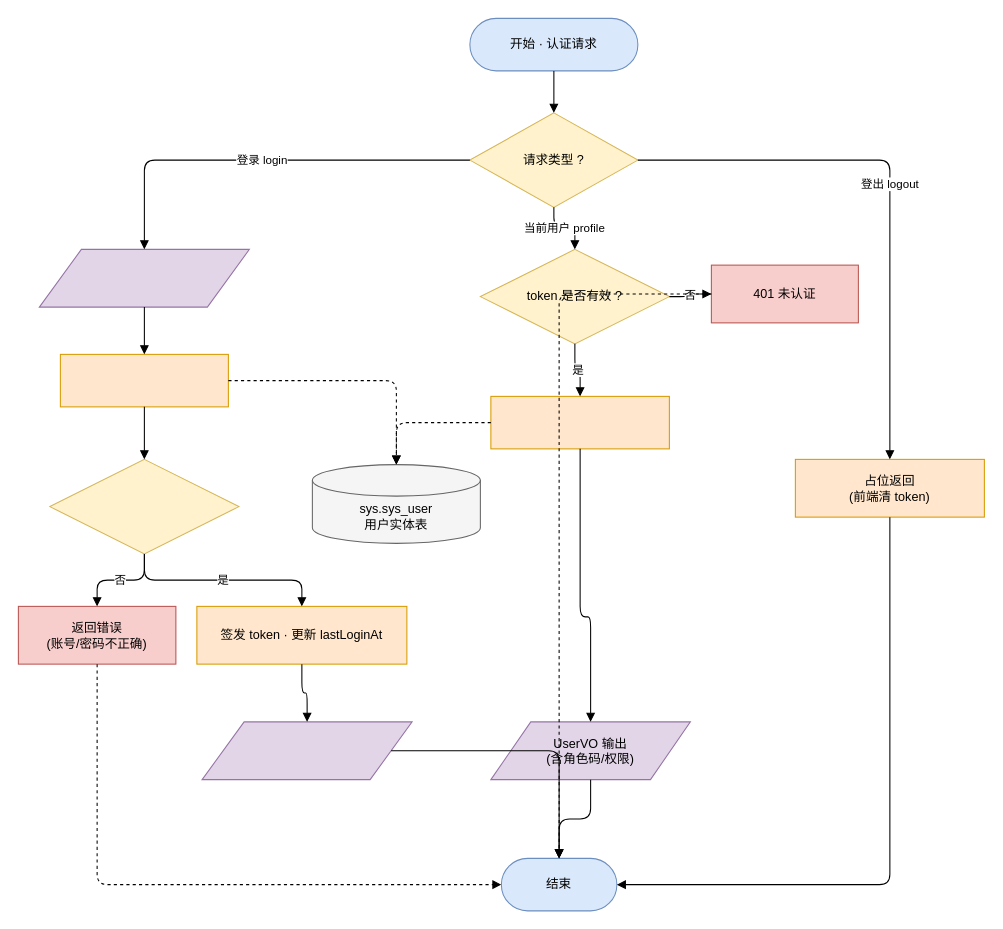
This 1003x929 diagram has some shape labels left out. The centre of each missing label's shape, as x and y in pixels:
"LoginDTO username · password" belongs at (x=143, y=277).
"LoginVO 输出 token + UserVO" belongs at (x=306, y=750).
"凭证是否有效 ?" belongs at (x=144, y=506).
"按上下文取当前用户" belongs at (x=579, y=422).
"校验用户名 / 密码" belongs at (x=143, y=380).
